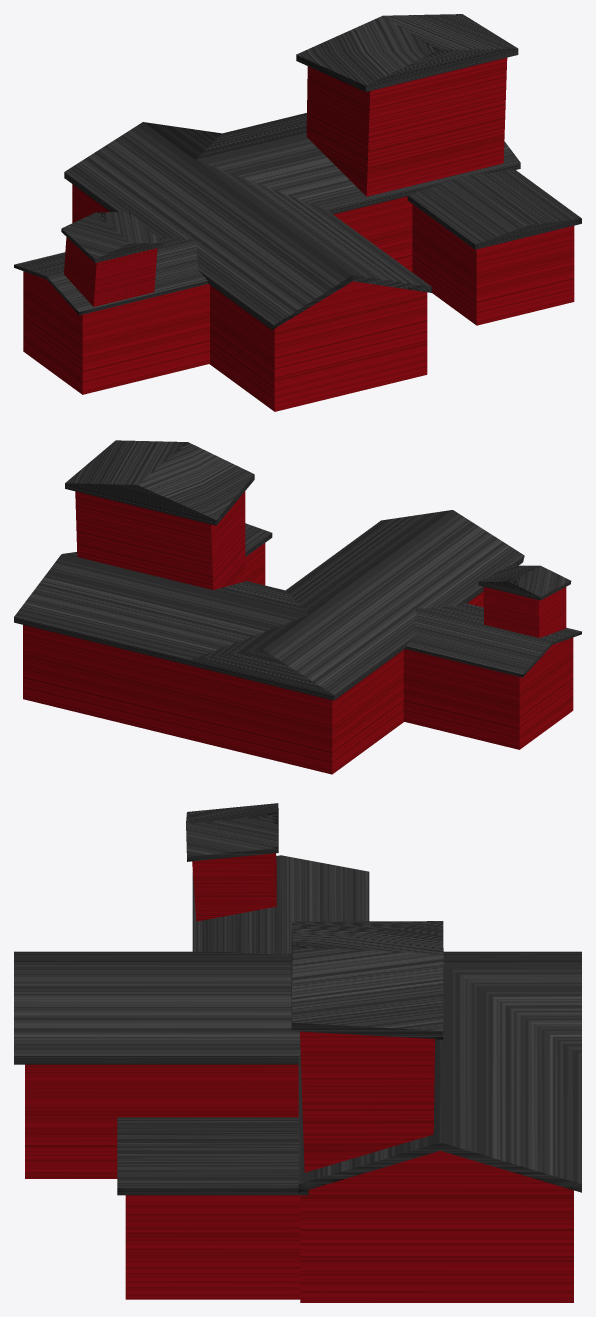
The model's file is House 2.glb.
The picture shows the model from 3 angles, top to bottom: view 1: azimuth 30°, elevation 25°; view 2: azimuth 150°, elevation 25°; view 3: azimuth 270°, elevation 25°; orthographic projection. The views are drawn at different scales.
Visible parts, largest first — view 1: Cube.011, Cube.012, Cube.009, Cube.014, Cube.015, Cube.013, Cube.017, Cube.016; view 2: Cube.012, Cube.011, Cube.009, Cube.014, Cube.013, Cube.017, Cube.016, Cube.015; view 3: Cube.011, Cube.012, Cube.014, Cube.009, Cube.015, Cube.013, Cube.017, Cube.016.
Boxes of the visible parts, <box> form: Cube.011: <box>23,184,574,411</box>; Cube.012: <box>64,113,520,329</box>; Cube.009: <box>306,57,507,196</box>; Cube.014: <box>296,14,518,91</box>; Cube.015: <box>407,169,581,249</box>; Cube.013: <box>14,237,208,315</box>; Cube.017: <box>64,237,157,306</box>; Cube.016: <box>61,212,162,263</box>; Cube.012: <box>14,510,524,700</box>; Cube.011: <box>23,543,573,774</box>; Cube.009: <box>75,491,245,589</box>; Cube.014: <box>65,440,254,525</box>; Cube.013: <box>405,603,581,677</box>; Cube.017: <box>483,587,566,637</box>; Cube.016: <box>478,565,571,600</box>; Cube.015: <box>245,523,272,556</box>; Cube.011: <box>25,1064,573,1302</box>; Cube.012: <box>14,951,581,1192</box>; Cube.014: <box>291,921,443,1039</box>; Cube.009: <box>300,1031,434,1172</box>; Cube.015: <box>117,1117,308,1195</box>; Cube.013: <box>192,855,369,954</box>; Cube.017: <box>192,853,276,921</box>; Cube.016: <box>186,803,278,861</box>.
Size of the model in its own units: 71.6 by 32.08 by 54.07.
Materials: 8 (8 with a texture image).
